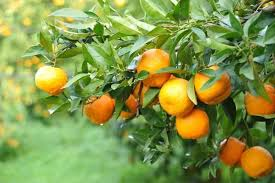orange: (192, 64, 231, 105), (158, 79, 196, 116), (136, 48, 172, 87), (243, 82, 275, 119), (83, 91, 114, 127), (33, 64, 68, 93), (174, 112, 209, 139)
